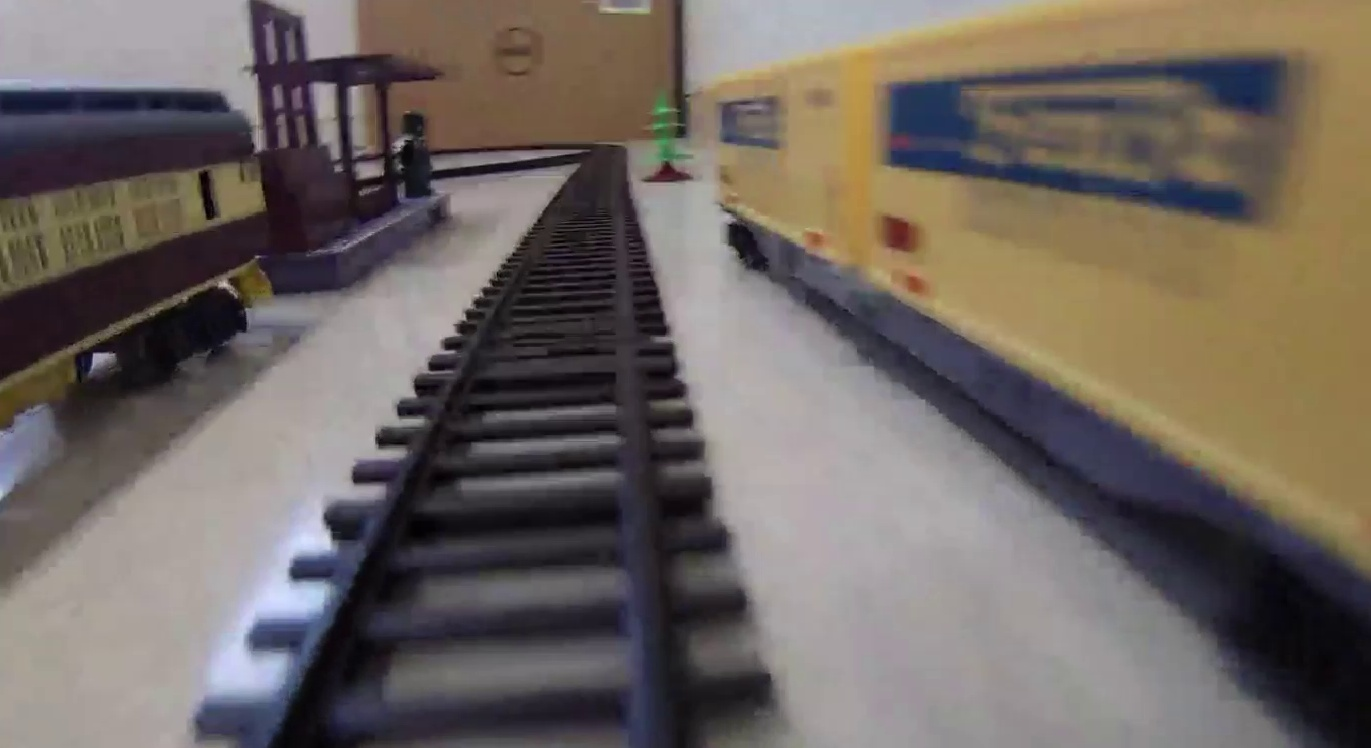people: (391, 111, 434, 197)
tree: (636, 88, 697, 183)
